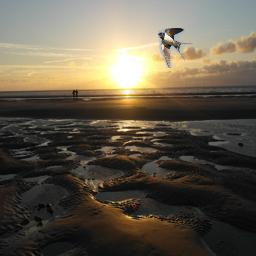Swallow: (158, 28, 193, 68)
